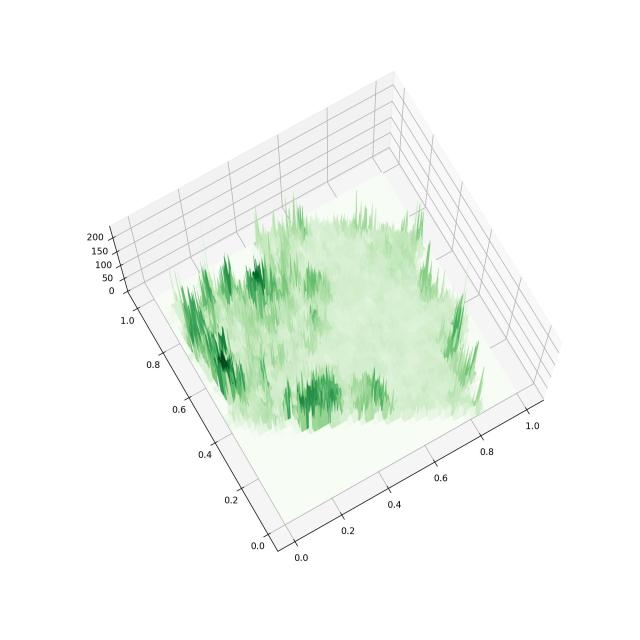fir: (27, 47, 640, 572)
